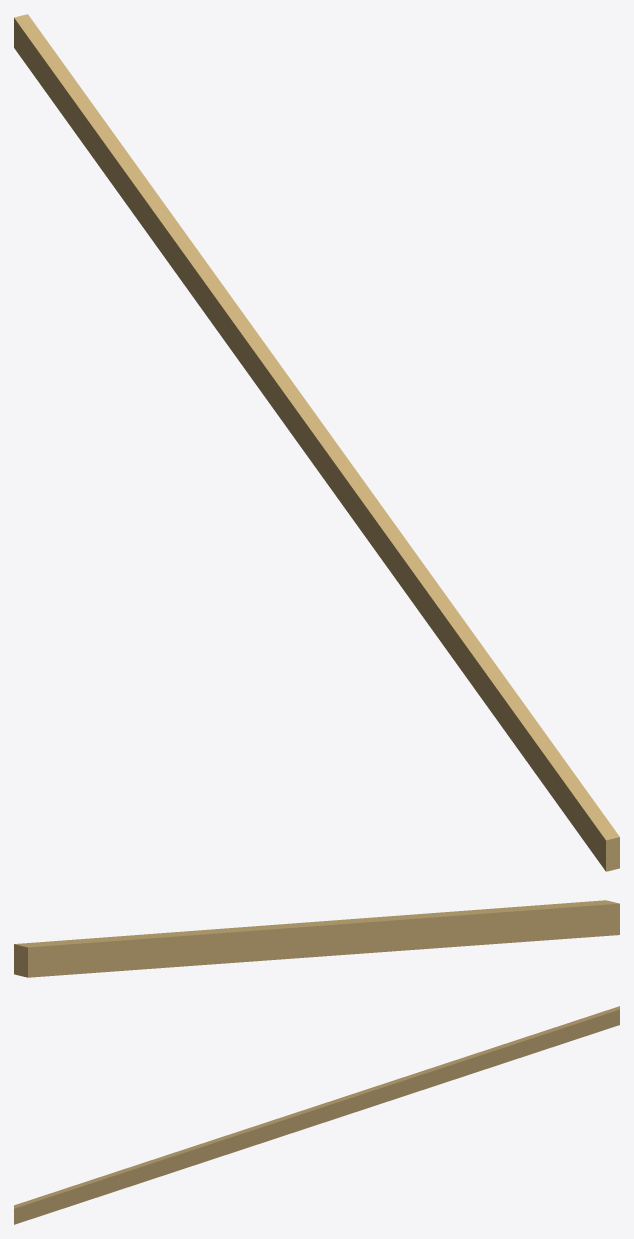
3 views of the same model, one above another, from view 1: azimuth 30°, elevation 25°; view 2: azimuth 150°, elevation 25°; view 3: azimuth 270°, elevation 25° (orthographic). The views are drawn at different scales.
Visible parts, largest first — view 1: L1-3-S7-322-M03; view 2: L1-3-S7-322-M03; view 3: L1-3-S7-322-M03.
Part boxes in pixels (x1,y1,x2,y2): L1-3-S7-322-M03: (14,14,619,871); L1-3-S7-322-M03: (14,900,619,977); L1-3-S7-322-M03: (14,1006,619,1224).
Bounding box in the file's own units: 0.045 × 1.3 × 3.31.
